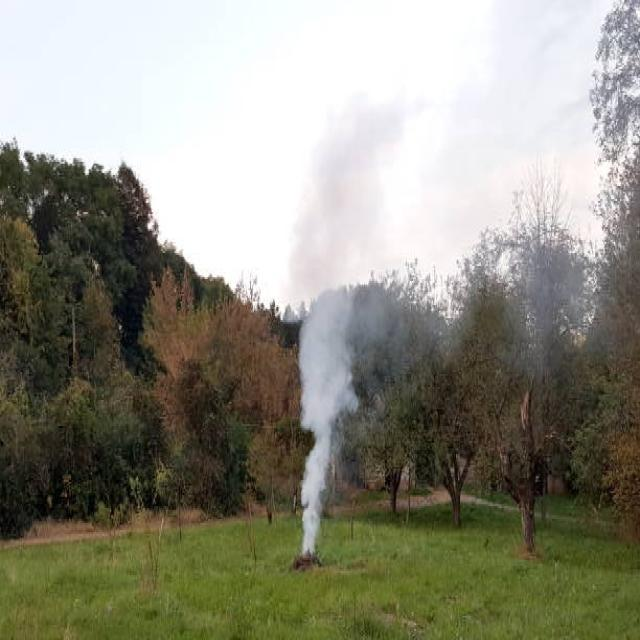Smoke: (292, 100, 402, 564)
